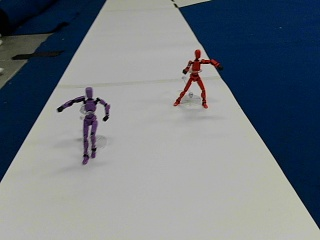pedestrian: (57, 87, 110, 162), (173, 48, 222, 108)
